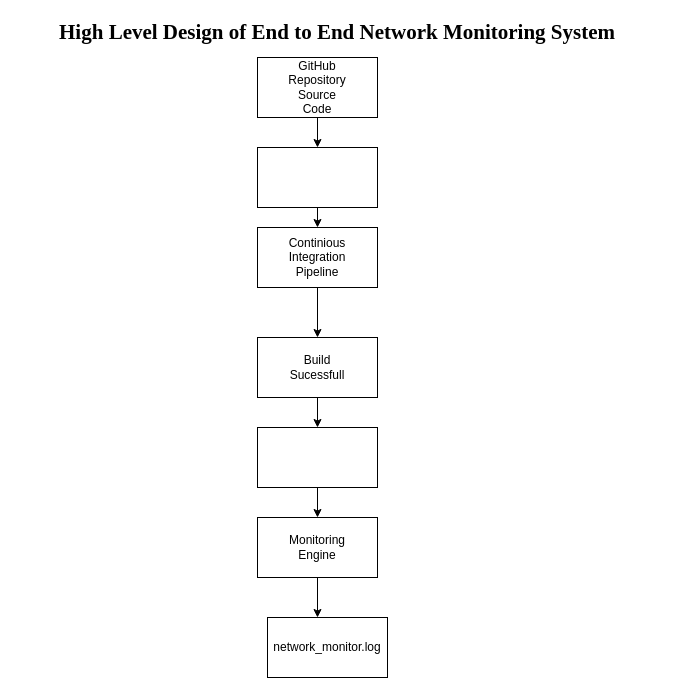
Some shapes in this 674 by 695 pixel diagram are drawn without their labels. Each missing label, with the centre of its shape:
"Docker Container" goes at pixel 317 457.
"Push / Pull Request through GitHub Actions" goes at pixel 317 177.
